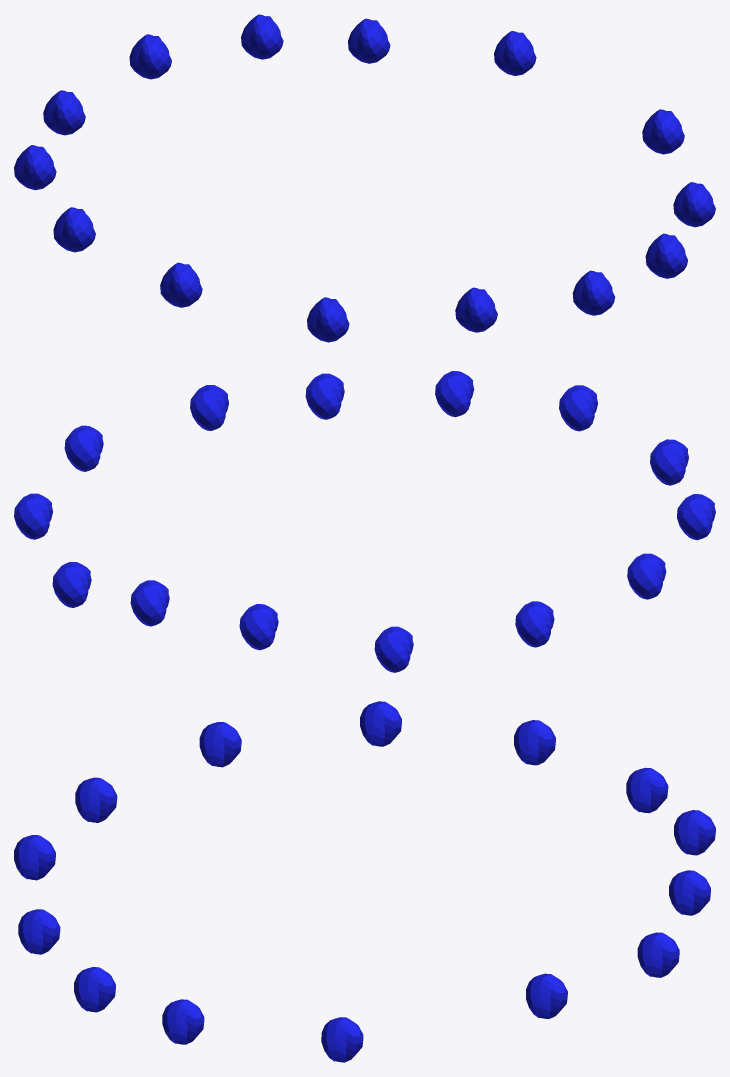
Rendered from uploads_files_3138814_Under+Water+Plants-seeds.fbx.
The picture shows the model from 3 angles, top to bottom: view 1: azimuth 30°, elevation 25°; view 2: azimuth 150°, elevation 25°; view 3: azimuth 270°, elevation 25°; orthographic projection. The views are drawn at different scales.
Parts seen in each view (by area): view 1: Seeds 2; view 2: Seeds 2; view 3: Seeds 2.
Part boxes in pixels (x1,y1,x2,y2): Seeds 2: (14,14,715,342); Seeds 2: (14,371,715,672); Seeds 2: (14,701,715,1062).
Size of the model in its own units: 121 by 15.86 by 118.
